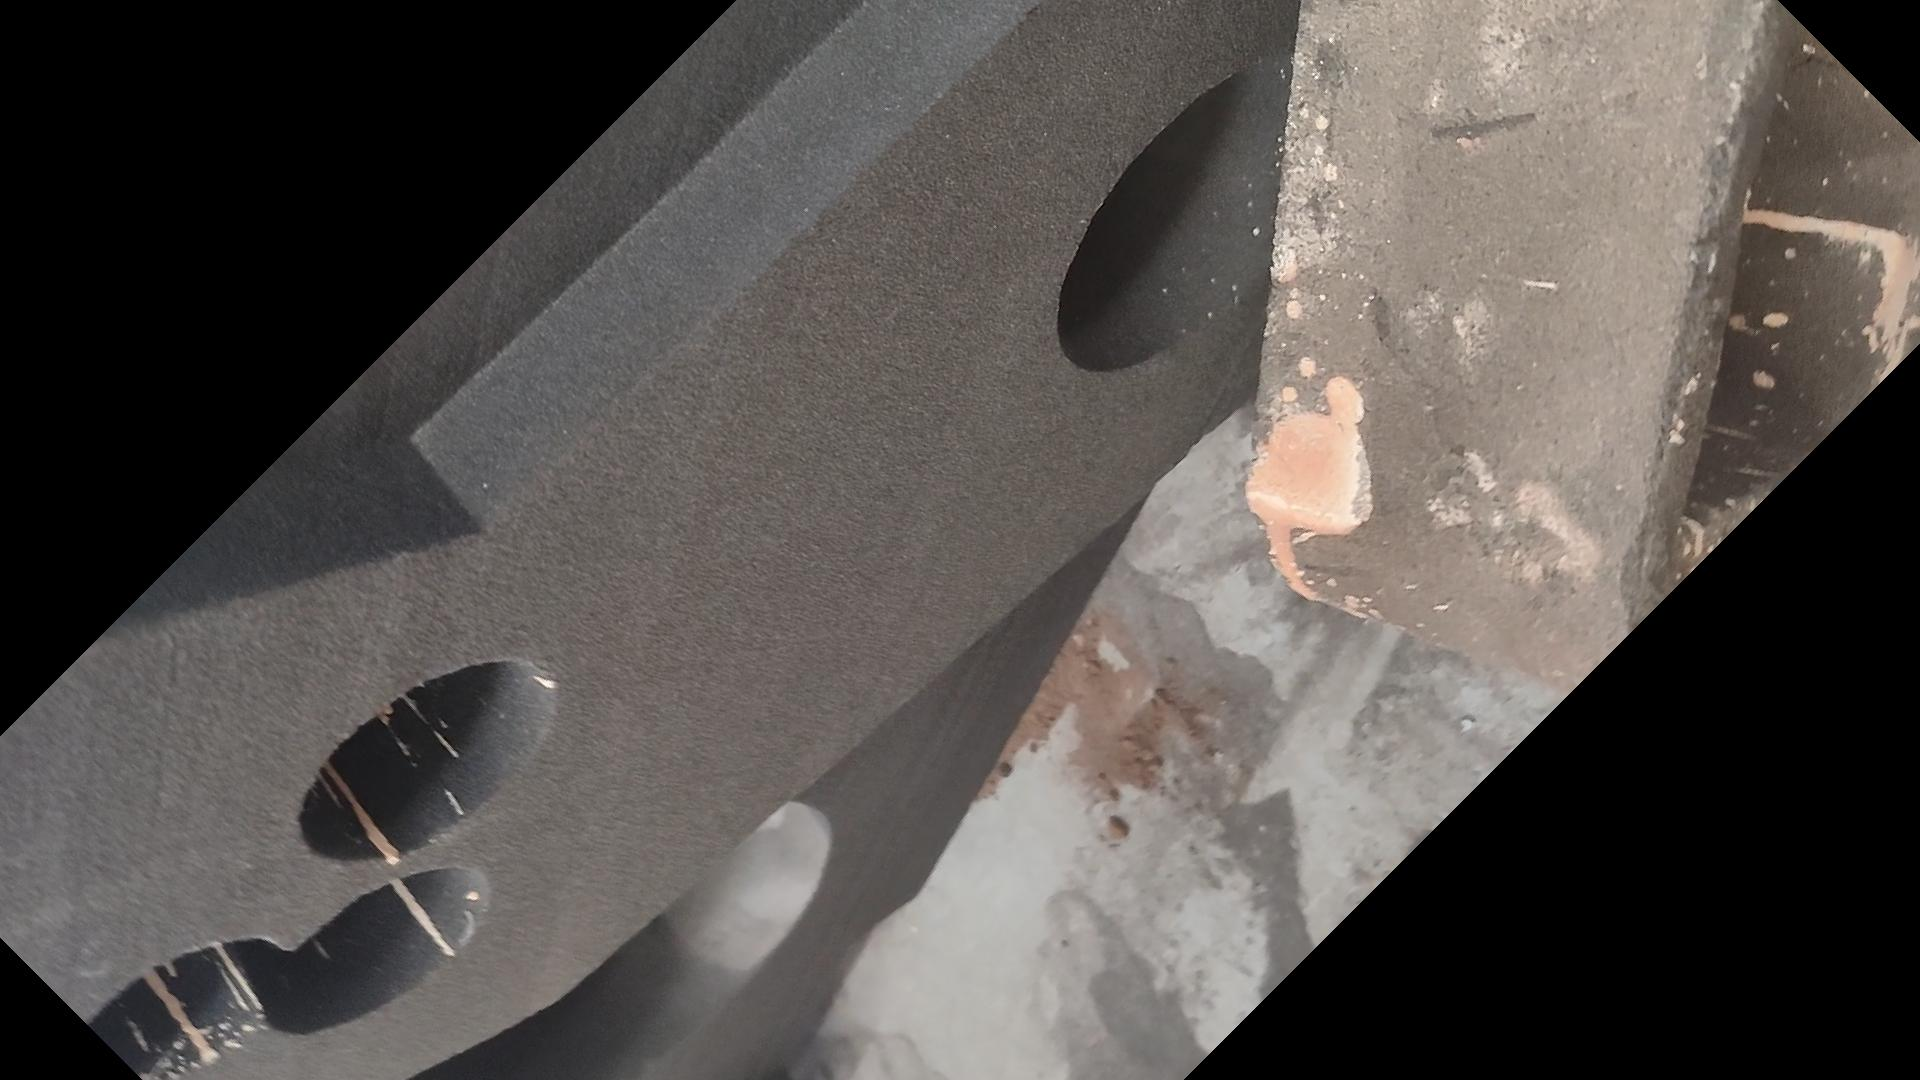pouring hole: (1055, 51, 1336, 375)
